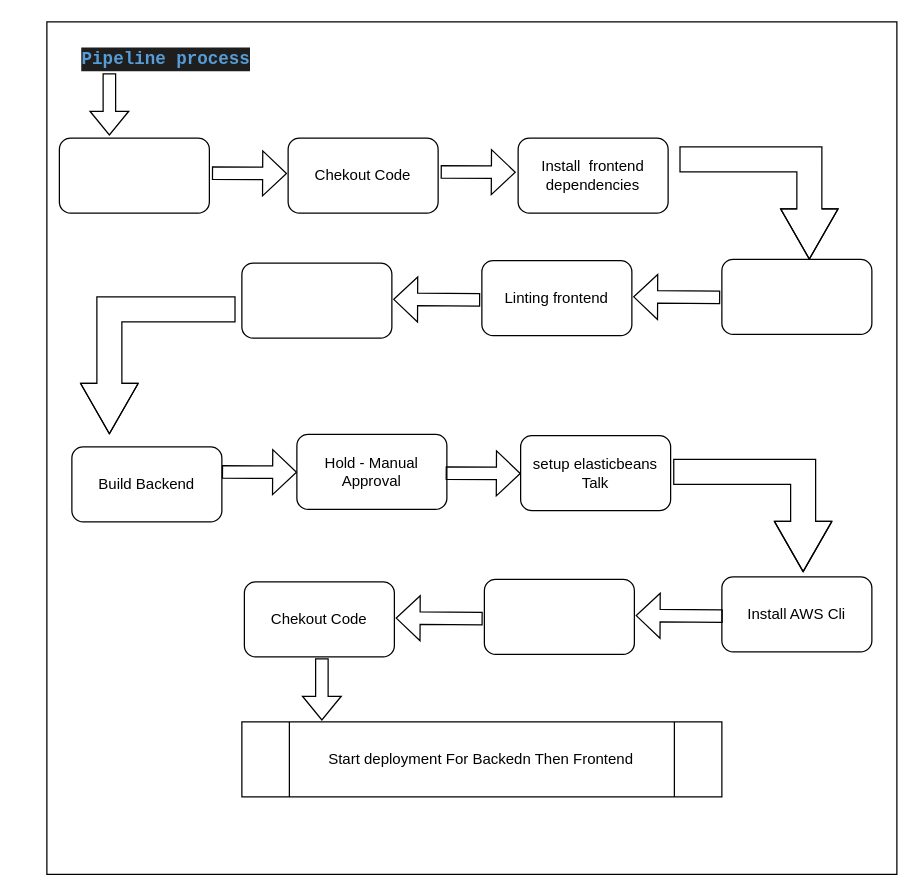
The diagram is 919 pixels wide and 896 high, and some of its shapes have lost their labels. The shapes that lost their labels are listed below. From the top down, each one's centre as x and y in pixels, then its label:
the point at 133,175: Install NodeJs
the point at 316,300: Build frontend
the point at 796,296: Install backend dependencies
the point at 558,616: Configure AWS With ENVIRONMENT variables
